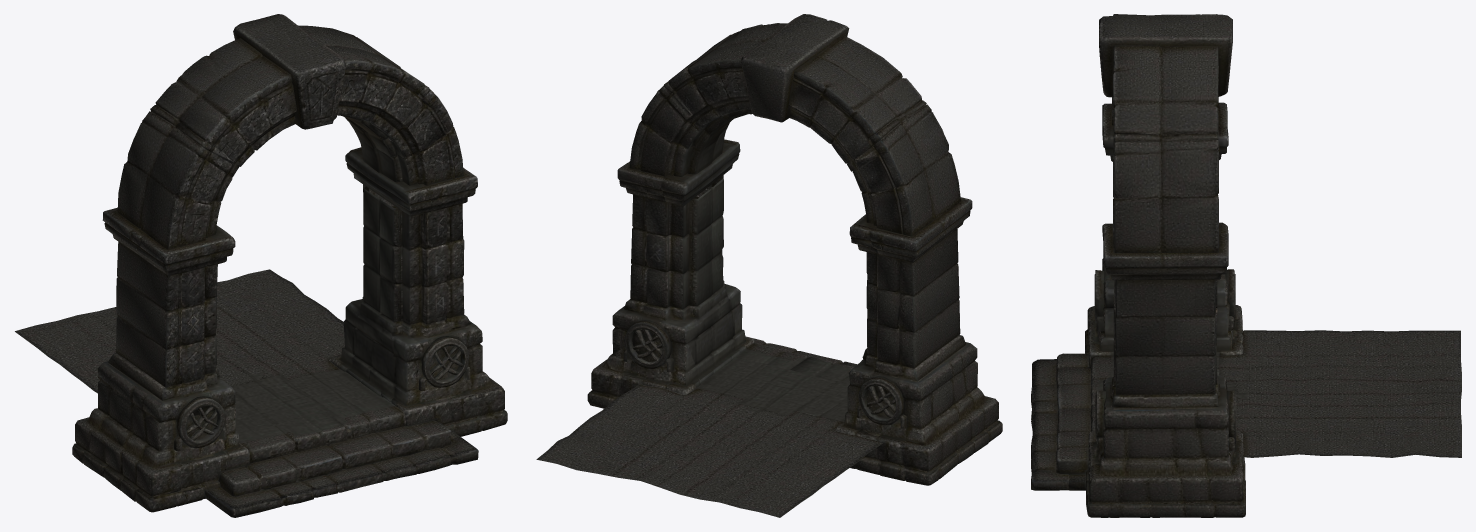
The model's file is tripo_convert_e95fd98b-dba1-4435-946a-744126394f95.fbx.
The picture shows the model from 3 angles, left to right: view 1: azimuth 30°, elevation 25°; view 2: azimuth 150°, elevation 25°; view 3: azimuth 270°, elevation 25°; orthographic projection. The views are drawn at different scales.
Parts seen in each view (by area): view 1: tripo_node_e95fd98b; view 2: tripo_node_e95fd98b; view 3: tripo_node_e95fd98b.
Part boxes in pixels (box(x1,y1,x2,y2)): tripo_node_e95fd98b: box(15, 14, 507, 517); tripo_node_e95fd98b: box(536, 14, 1002, 517); tripo_node_e95fd98b: box(1031, 14, 1461, 517).
Size of the model in its own units: 0.9473 by 0.998 by 0.9668.
Materials: 1 (1 with a texture image).
